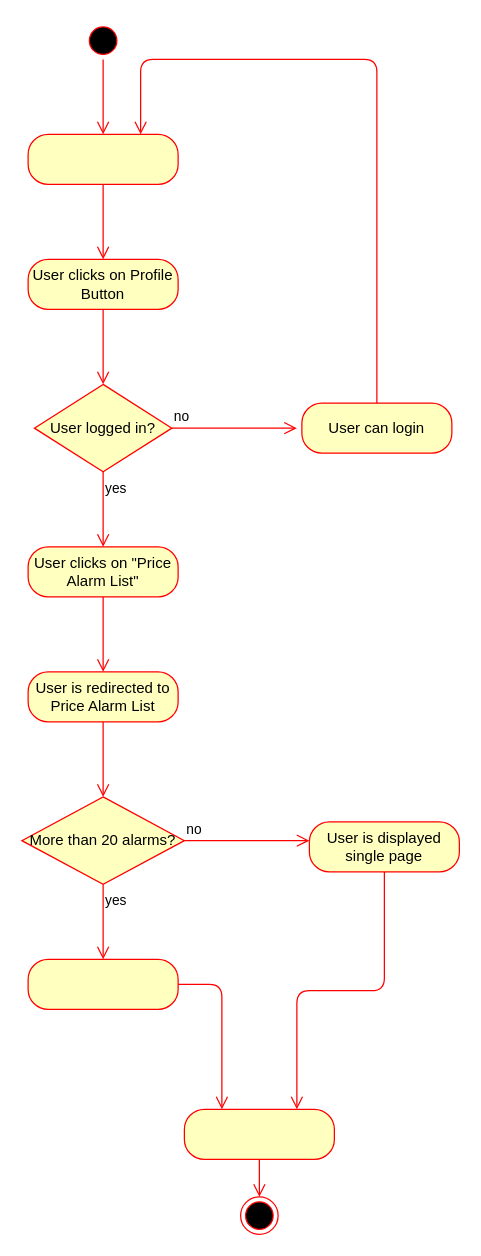
Image size: 481x1256. Some labels were removed from this diagram. The shapes that lost their labels are listed below. From the top down, each one's centre as x and y in pixels, then its label:
At (102,158): "User goes to landing page".
At (102,983): "User can switch between pages".
At (258,1133): "User can remove and edit entries".
